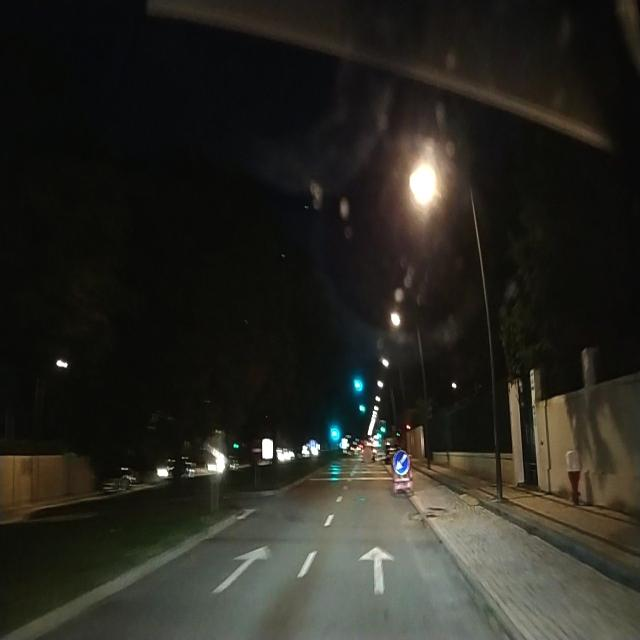car: (100, 465, 138, 494), (384, 439, 399, 462)
